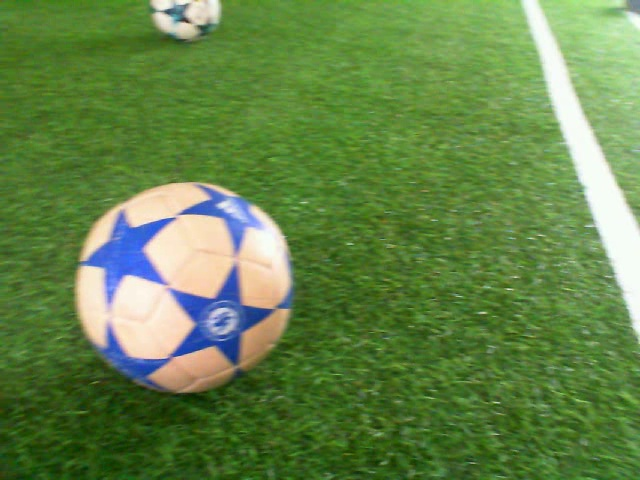ball: (71, 177, 300, 398), (146, 1, 225, 46)
